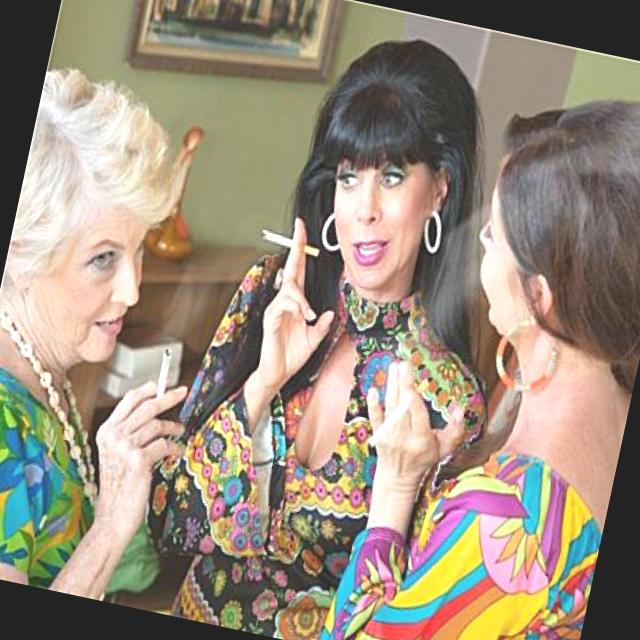cigarette: (255, 223, 325, 264)
